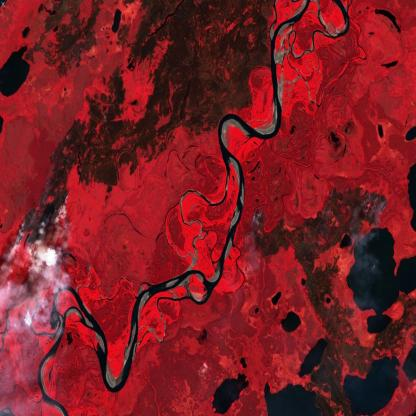fire: (13, 148, 70, 258), (318, 181, 389, 242), (243, 203, 269, 234)
